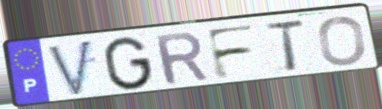F: (203, 22, 258, 82)
G: (102, 35, 155, 92)
O: (316, 15, 368, 68)
R: (152, 29, 212, 88)
T: (262, 18, 308, 74)
V: (44, 37, 95, 99)
